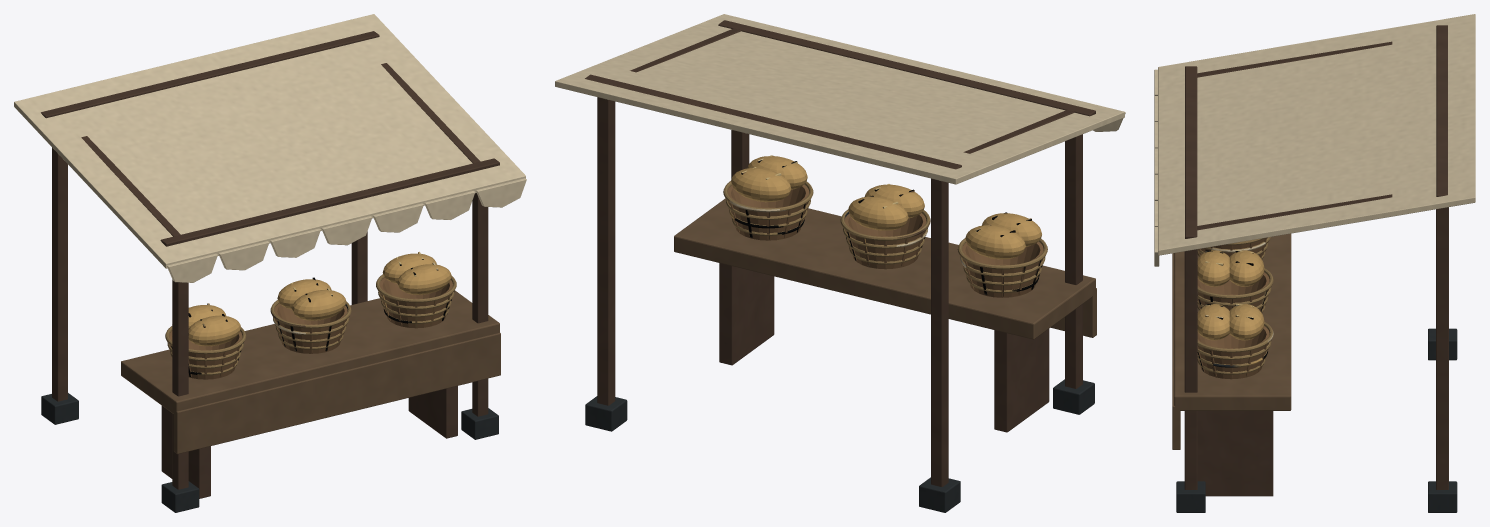
File: Bread_Stall.fbx
3 views of the same model, side by side, from view 1: azimuth 30°, elevation 25°; view 2: azimuth 150°, elevation 25°; view 3: azimuth 270°, elevation 25° (orthographic). The views are drawn at different scales.
Parts seen in each view (by area): view 1: Bread_Stall.001; view 2: Bread_Stall.001; view 3: Bread_Stall.001.
Boxes of the visible parts, box(x1,y1,x2,y2) form: Bread_Stall.001: box(14, 14, 526, 512); Bread_Stall.001: box(555, 14, 1125, 512); Bread_Stall.001: box(1154, 14, 1475, 512).
Bounding box in the file's own units: 3.56 × 2.94 × 2.63.
